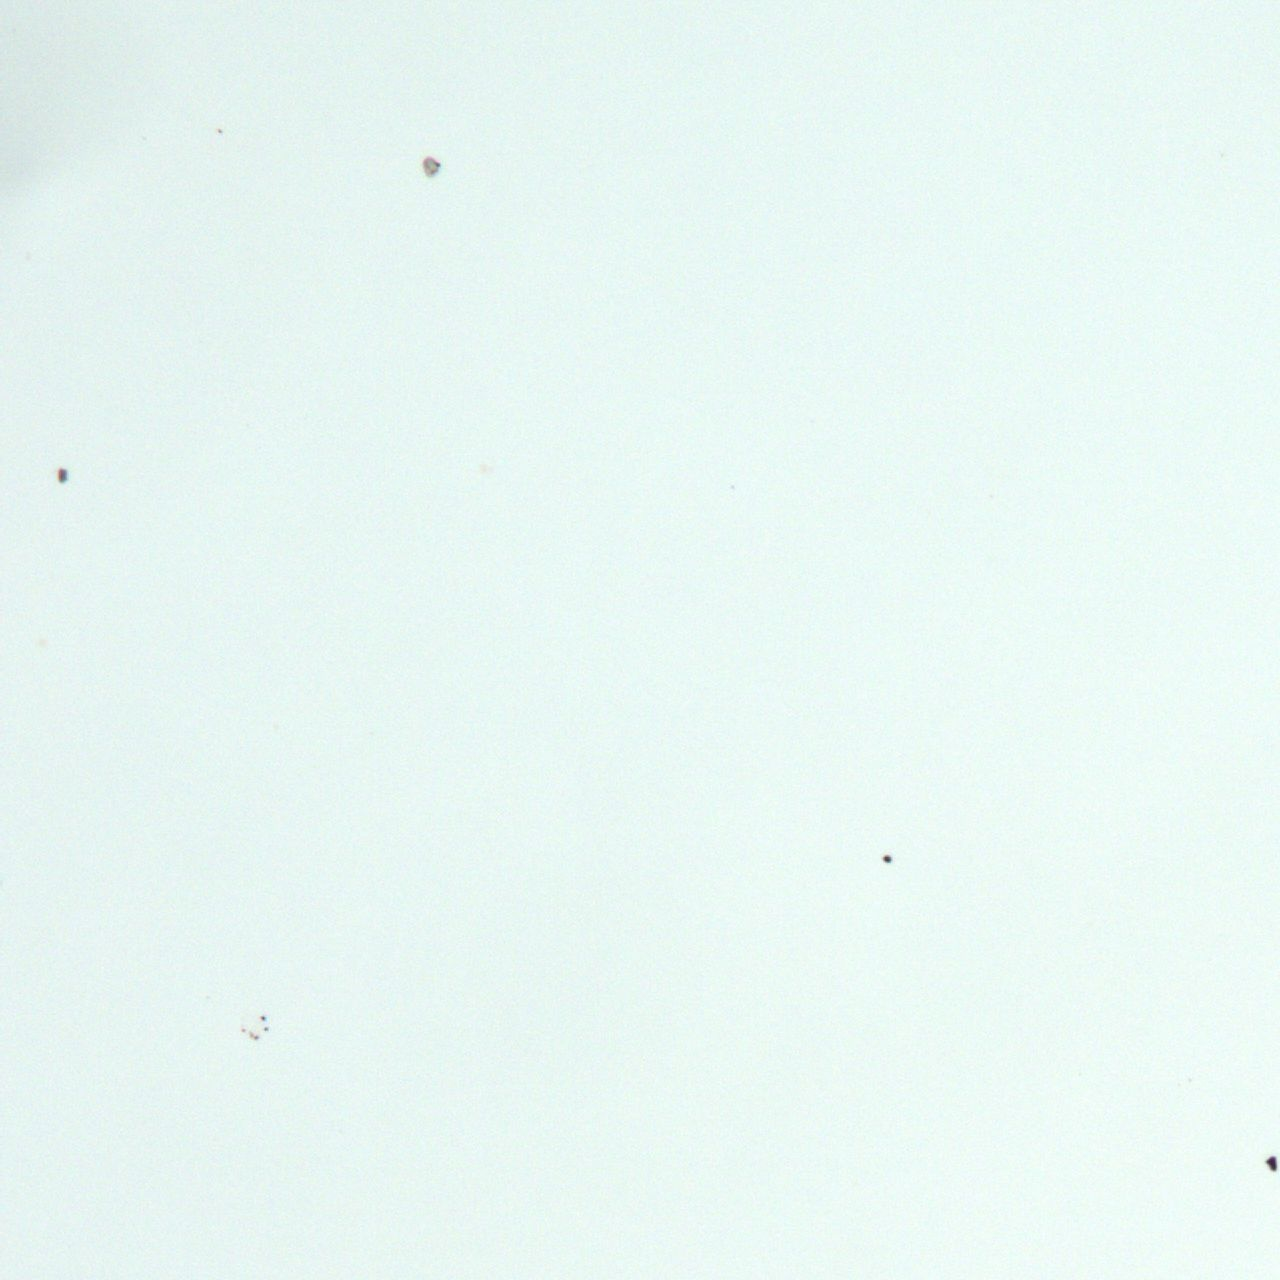dust: (422, 155, 440, 176), (1266, 1155, 1276, 1170), (57, 467, 67, 482), (881, 855, 891, 862), (248, 1032, 253, 1039), (254, 1034, 259, 1040), (260, 1015, 265, 1020), (263, 1027, 268, 1030), (241, 1028, 246, 1032)
